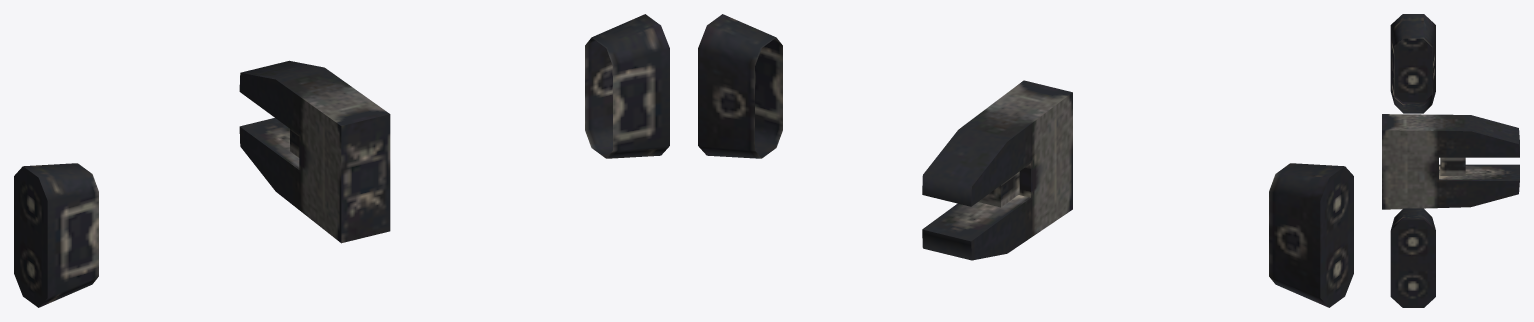
3 views of the same model, side by side, from view 1: azimuth 30°, elevation 25°; view 2: azimuth 150°, elevation 25°; view 3: azimuth 270°, elevation 25° (orthographic). The views are drawn at different scales.
Visible parts, largest first — view 1: set_0_group_0; view 2: set_0_group_0; view 3: set_0_group_0.
Boxes of the visible parts, left/top/right/bottom form: set_0_group_0: left=14, top=14, right=669, bottom=307; set_0_group_0: left=698, top=14, right=1353, bottom=307; set_0_group_0: left=1382, top=14, right=1519, bottom=307.
Bounding box in the file's own units: 0.5795 × 0.1162 × 0.164.
Materials: 1 (1 with a texture image).
